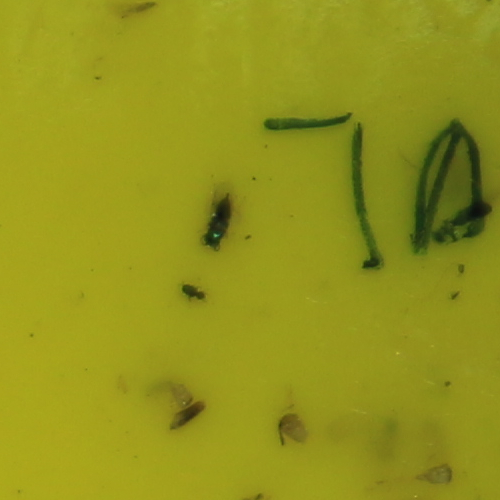Psyllaephagus: (201, 191, 233, 247)
